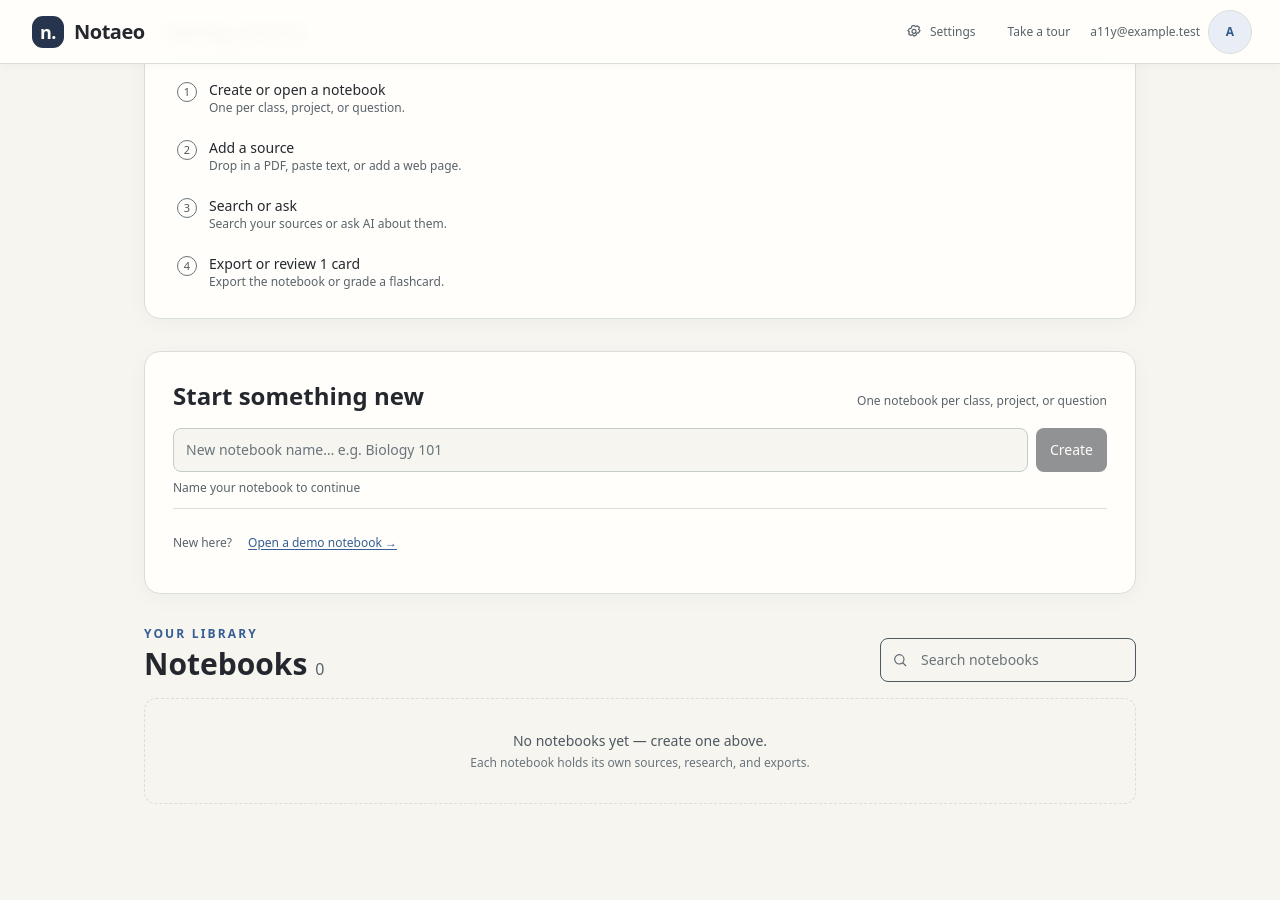
Test case: keeps focus inside the notebook results after filtering
This screenshot has width=1280, height=900.
(page scrolled)
Type "bio" into the search field labelled "Search notebooks".
click(1008, 660); type("bio")  # box [880, 638, 1136, 682]
(page scrolled)
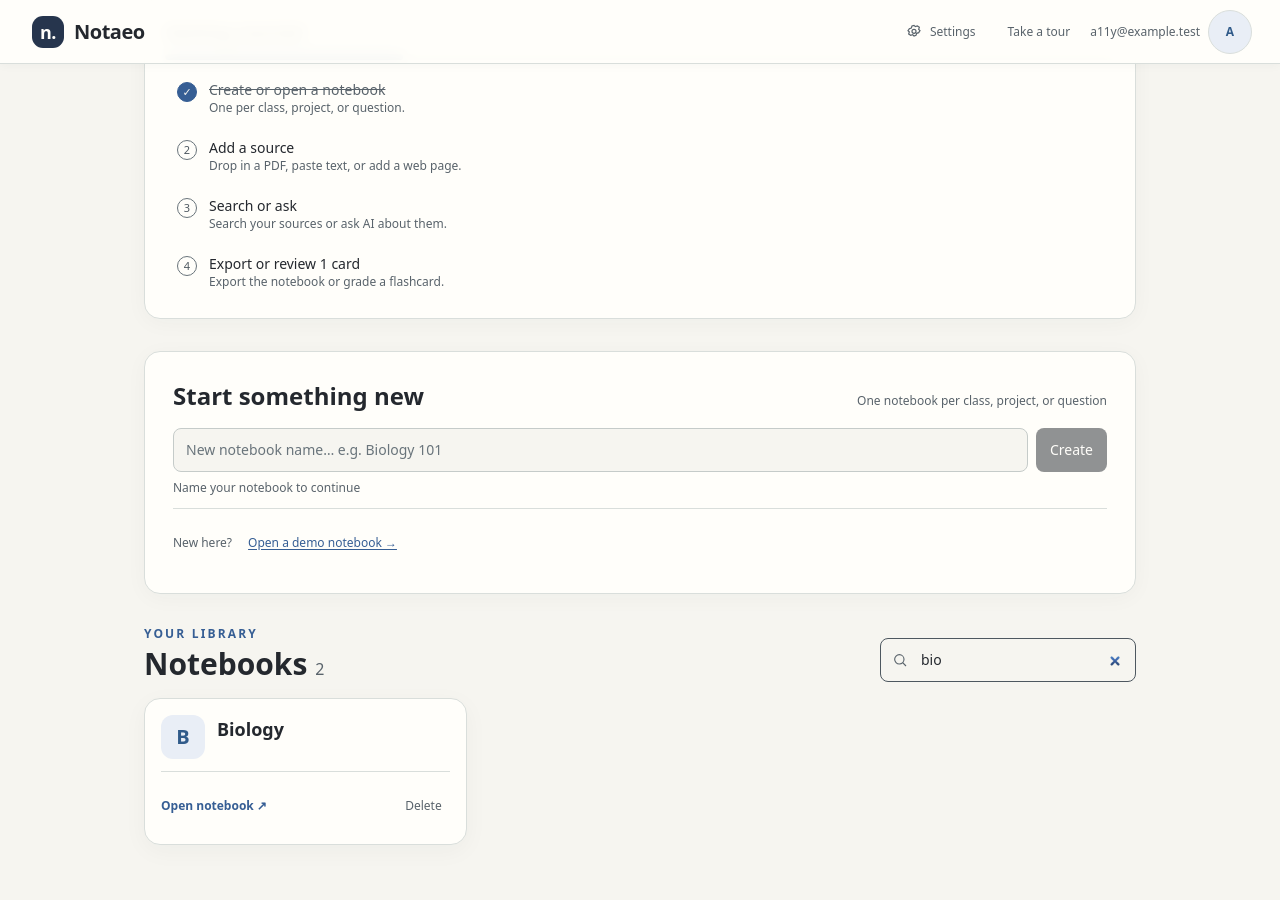
Expected: the button with aria-label "Open Biology" is shown, [161, 715, 450, 759]
